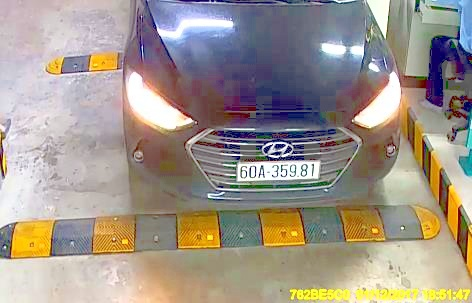plate: (230, 156, 322, 183)
